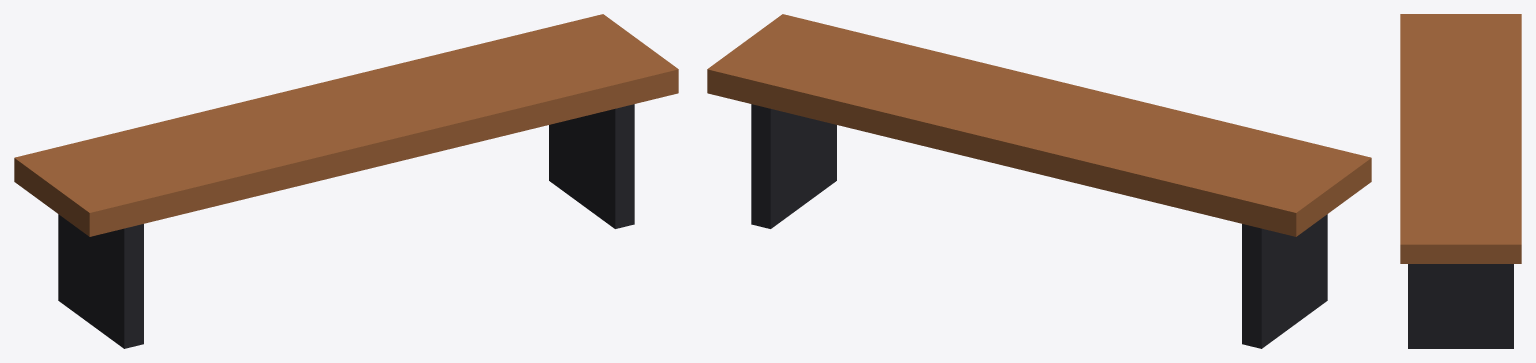
File: bench.glb
3 views of the same model, side by side, from view 1: azimuth 30°, elevation 25°; view 2: azimuth 150°, elevation 25°; view 3: azimuth 270°, elevation 25° (orthographic). The views are drawn at different scales.
Visible parts, largest first — view 1: bench_top, bench_leg, bench_leg.001; view 2: bench_top, bench_leg, bench_leg.001; view 3: bench_top, bench_leg.001.
Boxes of the visible parts, left/top/right/bottom form: bench_top: left=14, top=14, right=678, bottom=236; bench_leg: left=58, top=214, right=143, bottom=348; bench_leg.001: left=549, top=104, right=634, bottom=228; bench_top: left=707, top=14, right=1371, bottom=236; bench_leg: left=1242, top=214, right=1327, bottom=348; bench_leg.001: left=751, top=104, right=836, bottom=228; bench_top: left=1400, top=14, right=1521, bottom=263; bench_leg.001: left=1408, top=264, right=1513, bottom=348.
Size of the model in its own units: 1.8 by 0.435 by 0.4.
